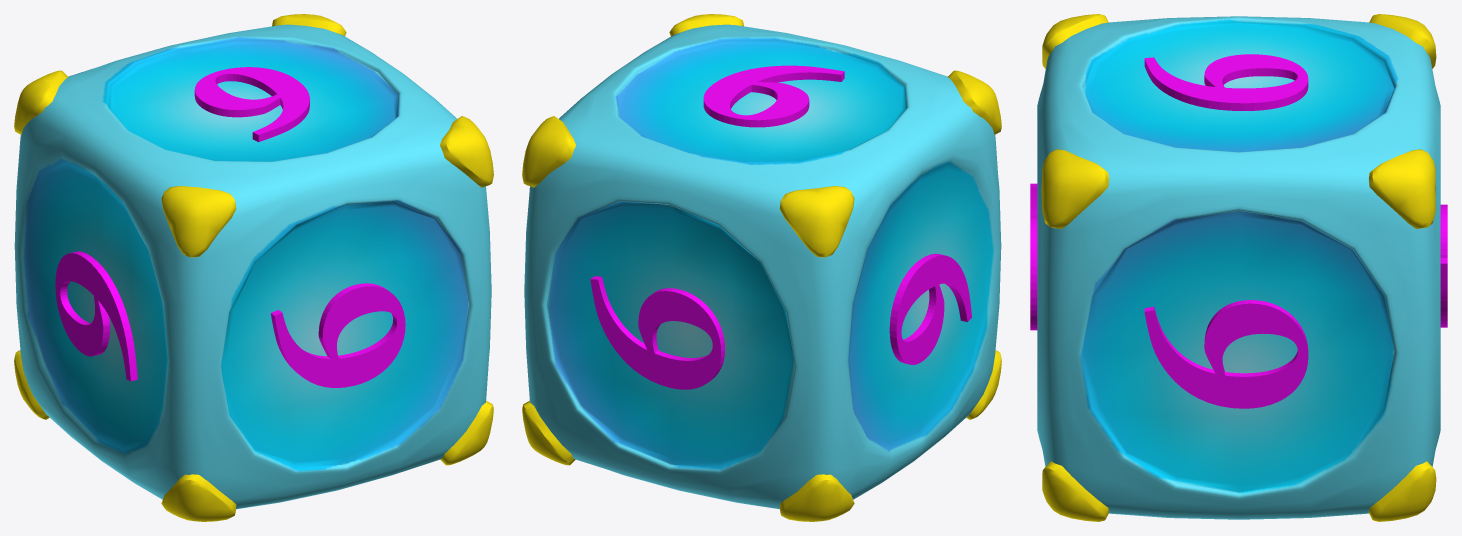
The model's file is Dice6.fbx.
The picture shows the model from 3 angles, left to right: view 1: azimuth 30°, elevation 25°; view 2: azimuth 150°, elevation 25°; view 3: azimuth 270°, elevation 25°; orthographic projection. The views are drawn at different scales.
Parts seen in each view (by area): view 1: Cube.002, acessery, Text6_06, Text2_06, Text3_06; view 2: Cube.002, acessery, Text5_06, Text2_06, Text3_06; view 3: Cube.002, acessery, Text4_06, Text3_06, Text6_06, Text5_06.
Part boxes in pixels (x1,y1,x2,y2): Cube.002: [14, 24, 491, 509]; acessery: [14, 14, 493, 521]; Text6_06: [271, 283, 405, 387]; Text2_06: [55, 251, 137, 381]; Text3_06: [194, 67, 309, 142]; Cube.002: [524, 24, 1001, 509]; acessery: [522, 14, 1001, 521]; Text5_06: [590, 276, 725, 389]; Text2_06: [889, 253, 971, 364]; Text3_06: [703, 65, 844, 127]; Cube.002: [1037, 16, 1440, 519]; acessery: [1041, 14, 1436, 521]; Text4_06: [1144, 300, 1308, 408]; Text3_06: [1144, 54, 1308, 110]; Text6_06: [1030, 183, 1037, 330]; Text5_06: [1440, 204, 1447, 327].
Size of the model in its own units: 203 by 203 by 203.
